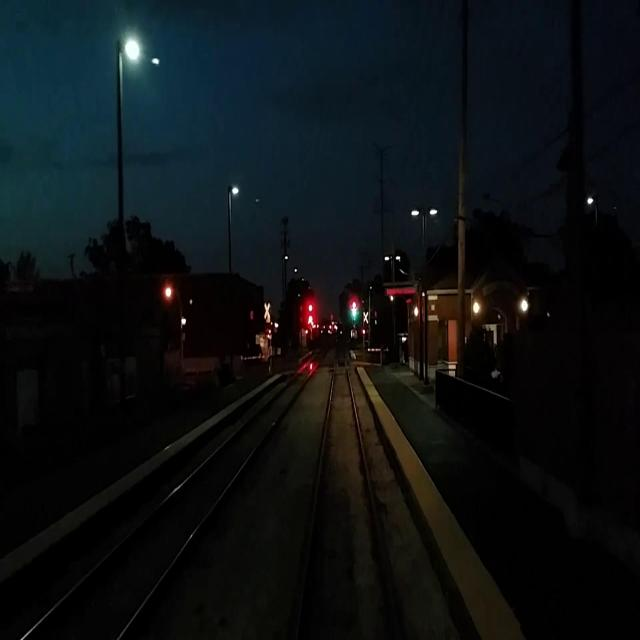rail-track: (28, 349, 325, 639), (292, 345, 396, 639)
